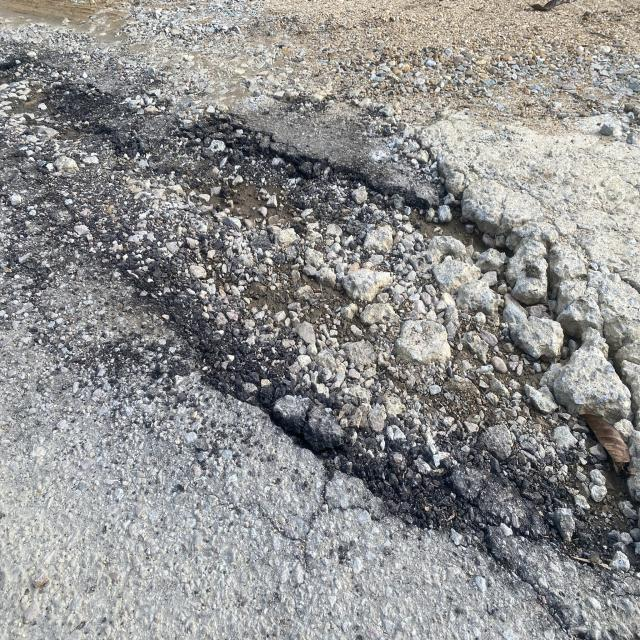Pothole: (41, 39, 640, 518)
